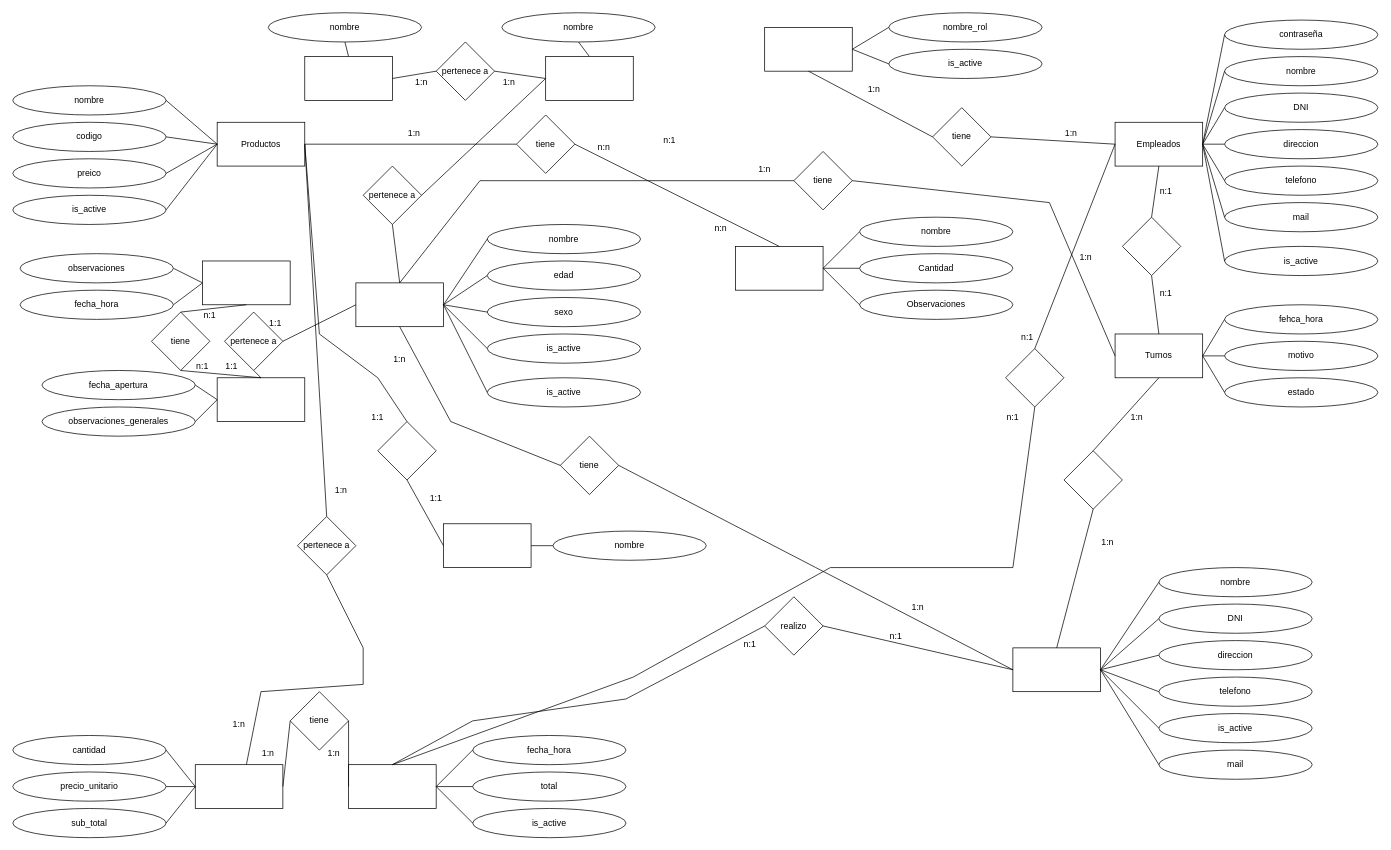
Image size: 1391x850. Some labels were removed from this diagram. Here are the shapes that lost their labels. From the top down, the centre of each, then its label:
At point 808,49: "Roles".
At point 348,78: "Razas".
At point 589,78: "Especies".
At point 1151,246: "debe atender".
At point 246,282: "Detalles hstorias clinicas".
At point 779,268: "Stock".
At point 399,304: "Masctoas".
At point 1034,377: "atendio".
At point 260,399: "Historias clinicas".
At point 406,450: "pertecene a".
At point 1092,479: "Reservo".
At point 487,545: "Categorias".
At point 1056,669: "Clientes".
At point 239,786: "Detalles ventas".
At point 392,786: "Ventas".
